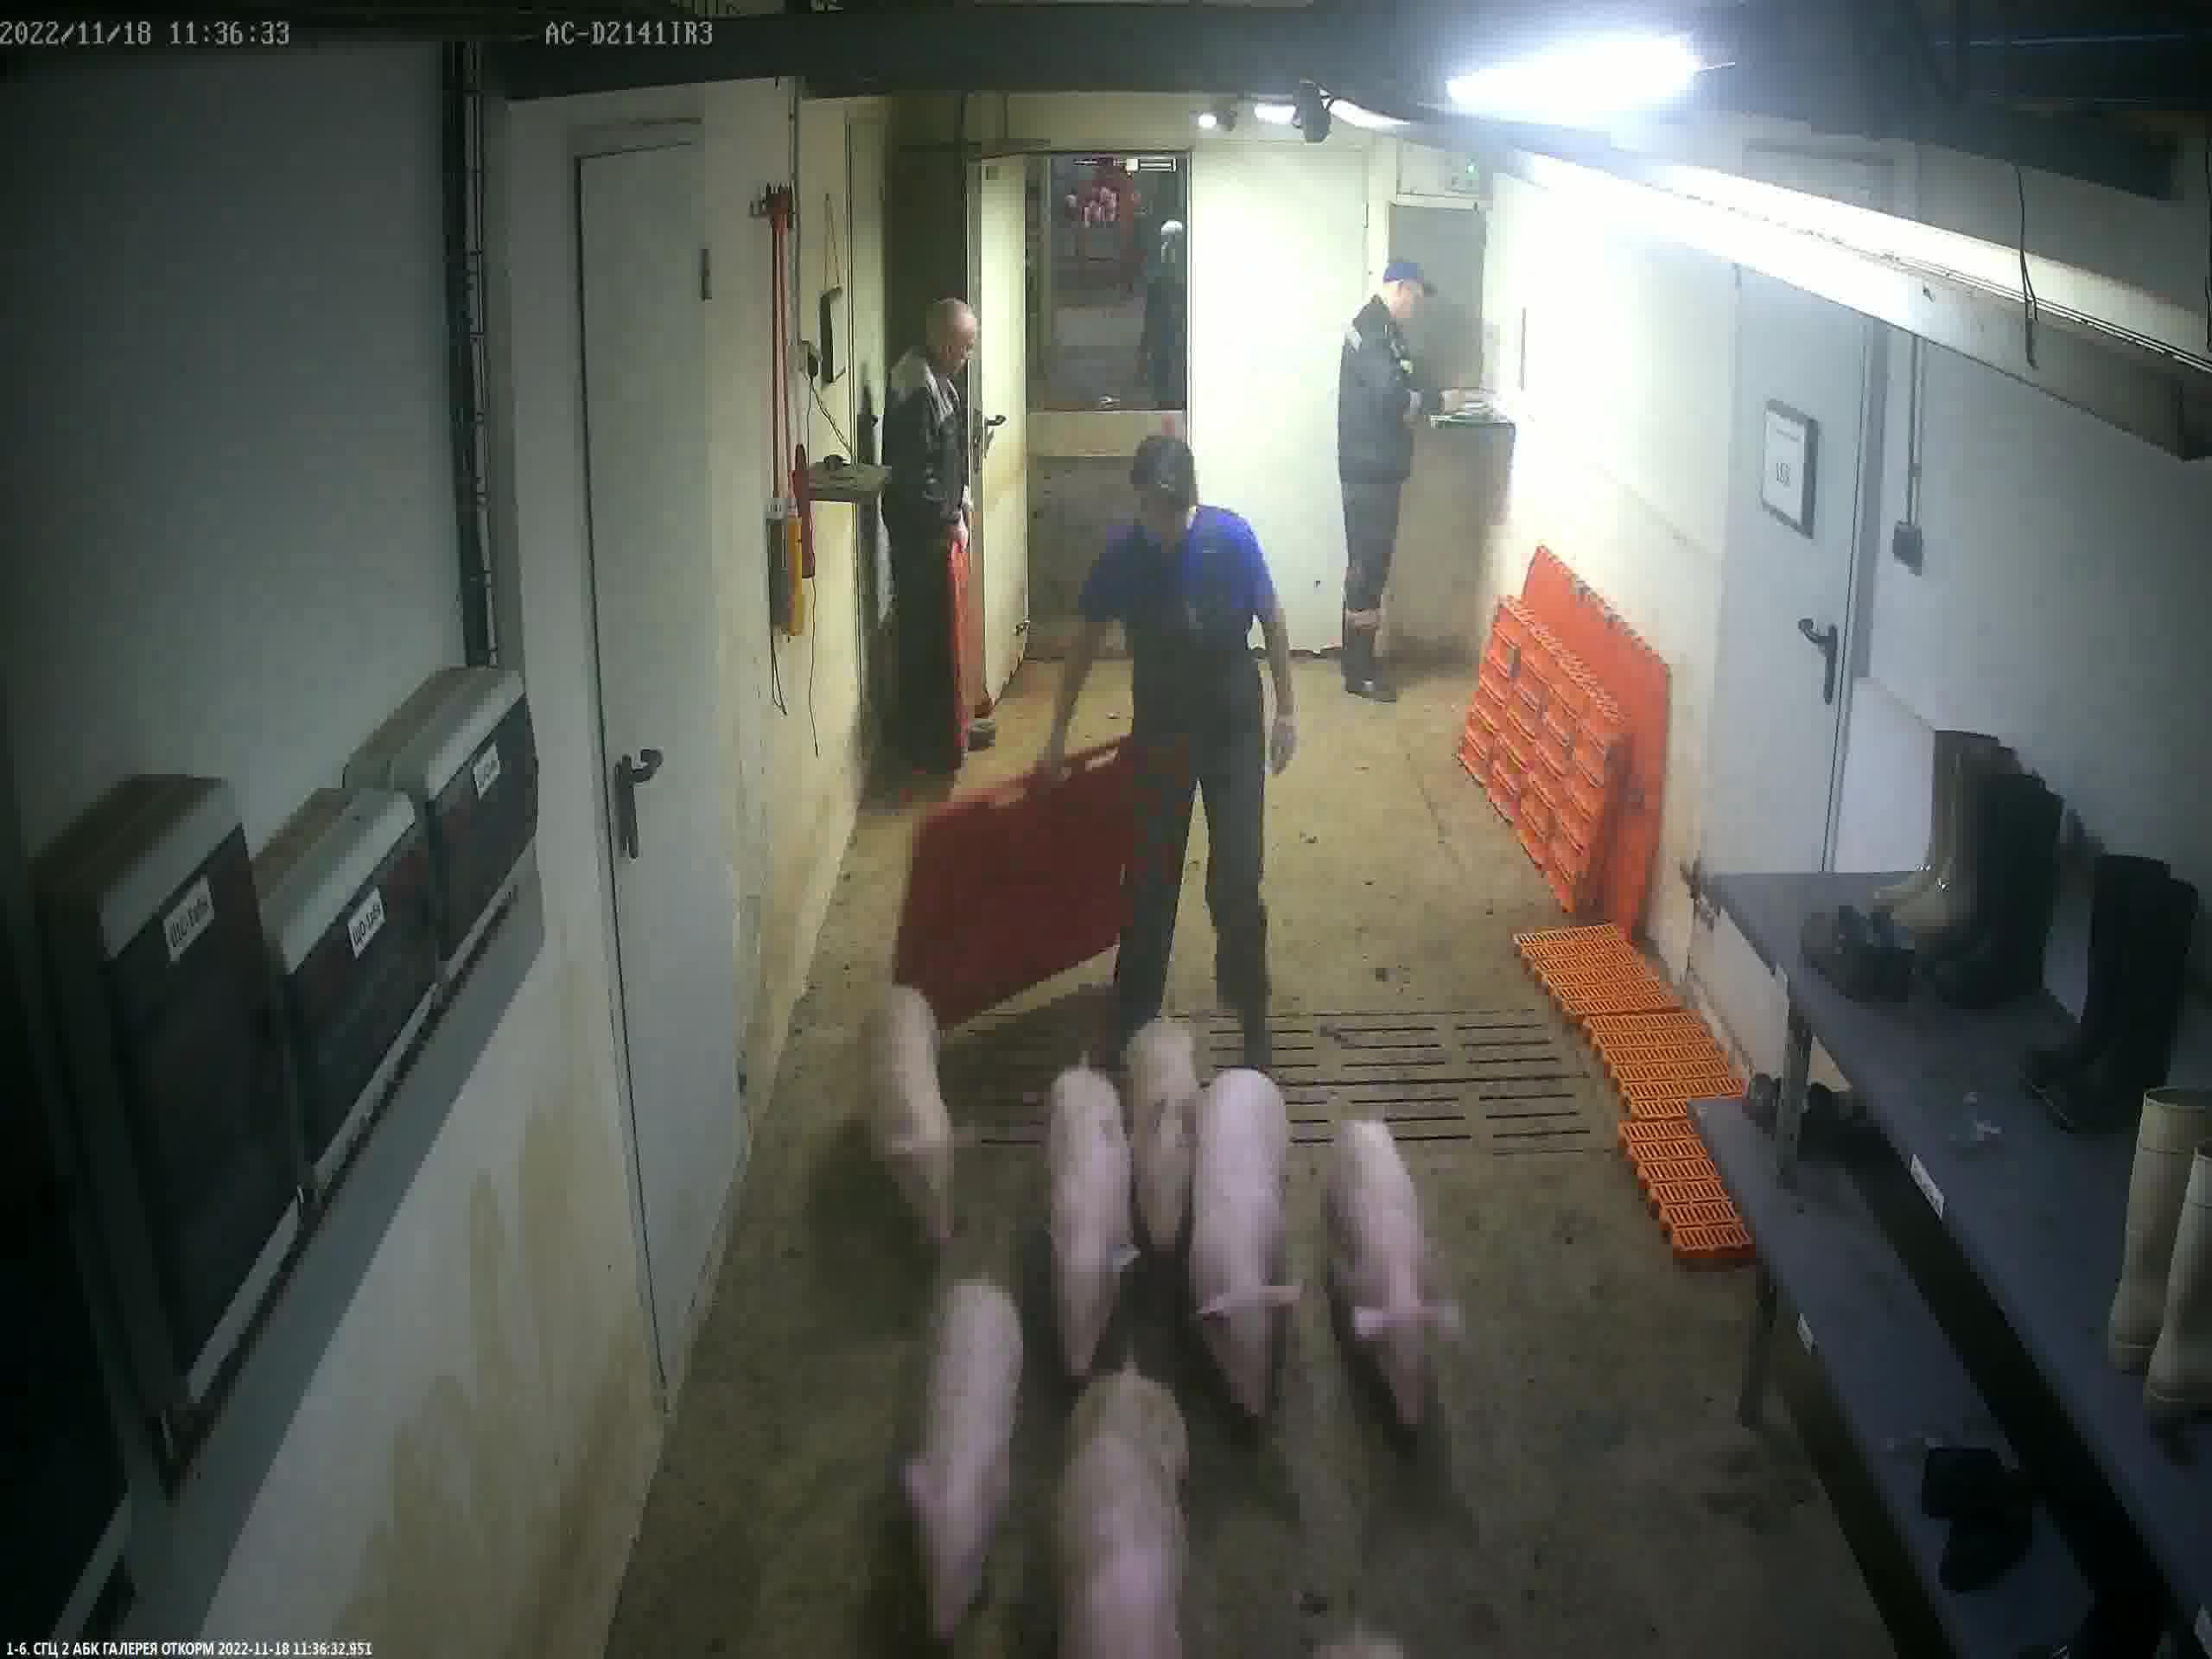Pigs: (904, 1283, 1028, 1659), (1327, 1117, 1461, 1441), (1052, 1368, 1190, 1659), (1193, 1072, 1299, 1420), (1043, 1065, 1130, 1378), (867, 985, 963, 1256), (1129, 1019, 1205, 1302)
